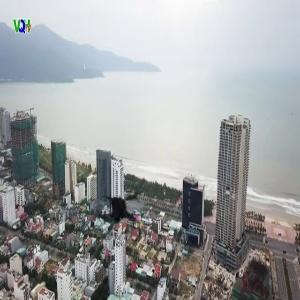drone: (90, 183, 158, 251)
